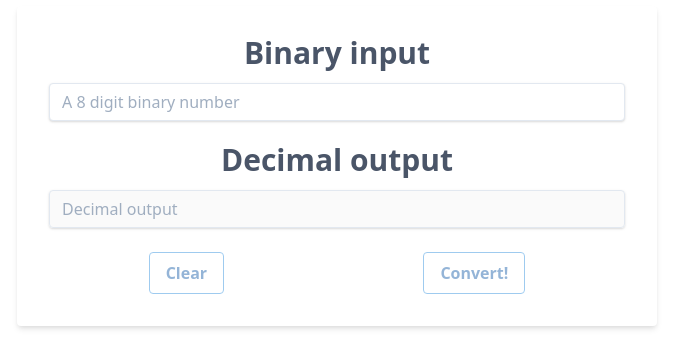
Scenario: Clear behavior › clear inputs after result of a conversion
Type "101010" into the field labelled "Binary input" at (337,102), box [49,83,625,121]
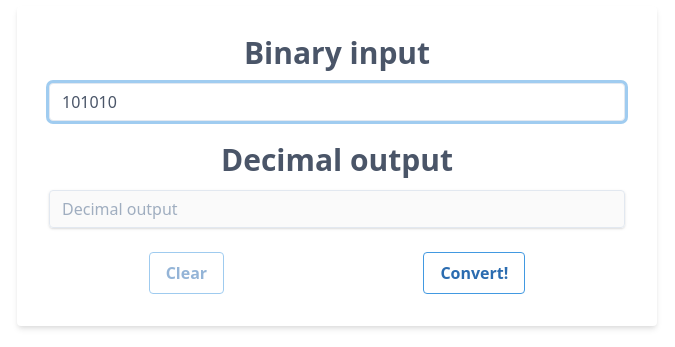
Click the button "Convert!" at (474,273), box [423,252,525,294]
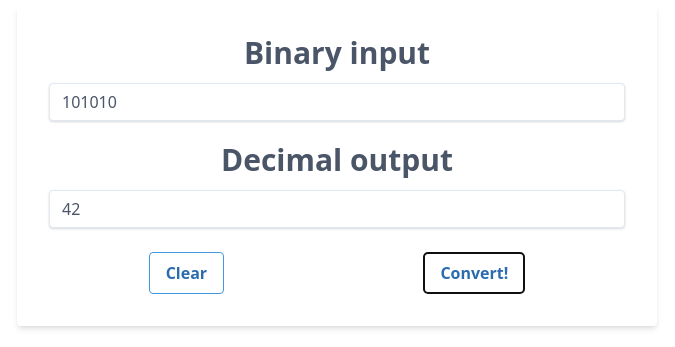
Now the field labelled "Decimal output" is enabled, box [49,190,625,228]
Now the field labelled "Decimal output" holds "42", box [49,190,625,228]
Click the button "Clear" at (186,273), box [149,252,224,294]
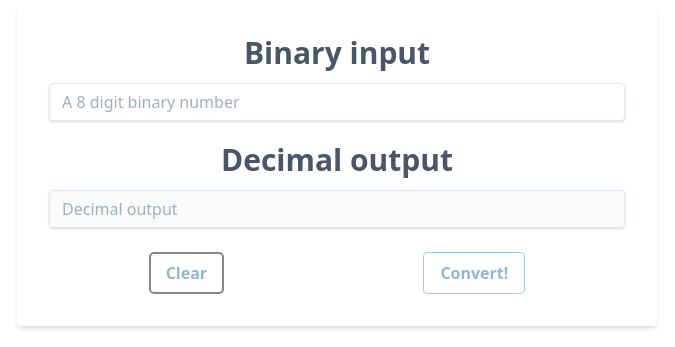
Now the field labelled "Binary input" is empty, box [49,83,625,121]
Now the field labelled "Decimal output" is disabled, box [49,190,625,228]
Now the field labelled "Decimal output" is empty, box [49,190,625,228]
